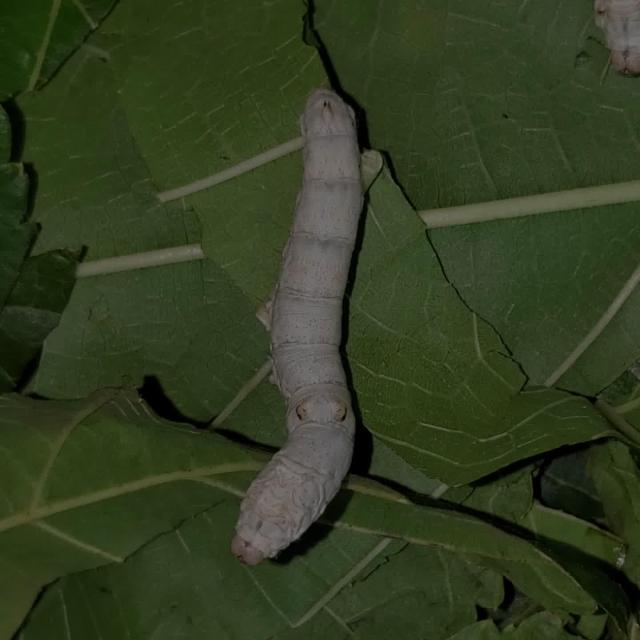Healthy: (209, 69, 403, 580)
